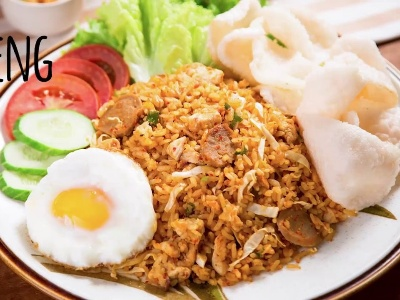nasigoreng: (34, 67, 343, 282)
